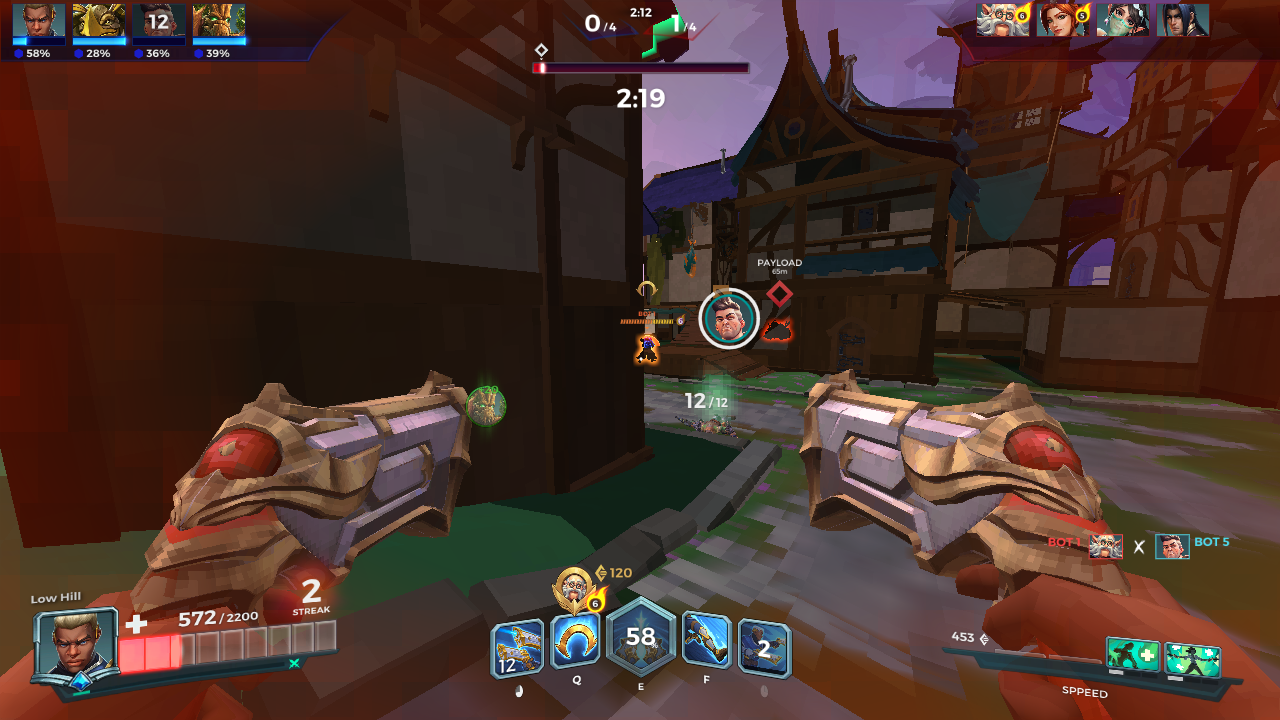model: (632, 332, 669, 372)
